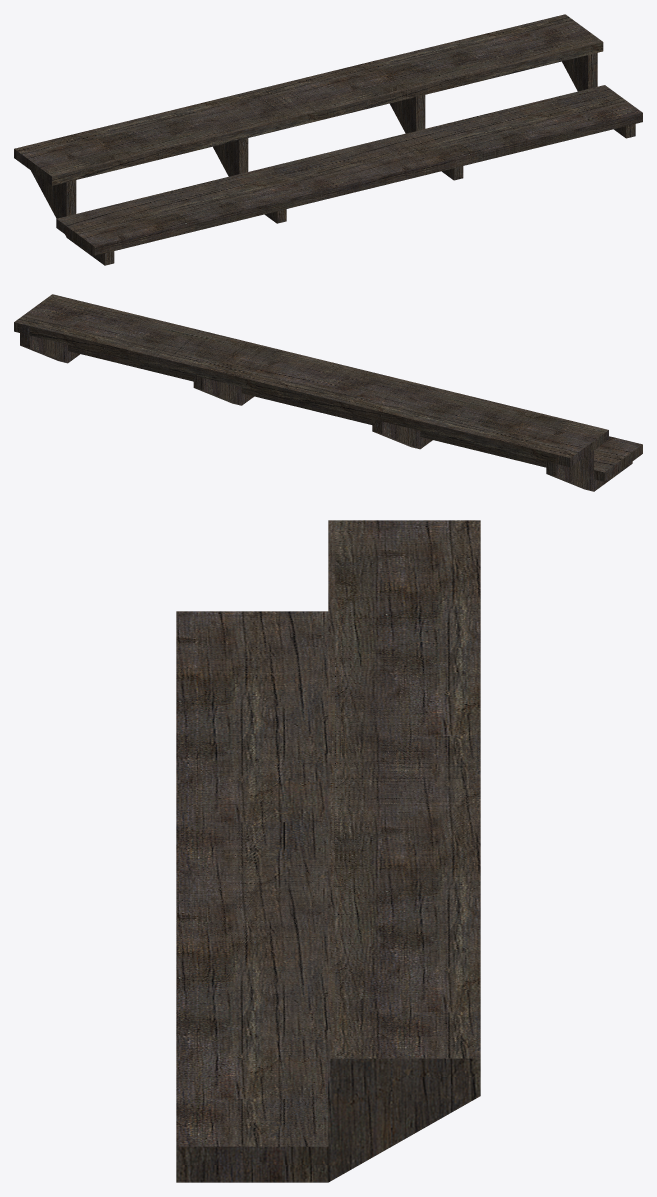
The model's file is Stairs 2.fbx.
3 views of the same model, one above another, from view 1: azimuth 30°, elevation 25°; view 2: azimuth 150°, elevation 25°; view 3: azimuth 270°, elevation 25° (orthographic). The views are drawn at different scales.
Visible parts, largest first — view 1: Model; view 2: Model; view 3: Model.
Part boxes in pixels (<box>): Model: <box>14,14,642,265</box>; Model: <box>14,294,642,491</box>; Model: <box>176,520,480,1182</box>.
Size of the model in its own units: 93.63 by 10.5 by 22.32.
